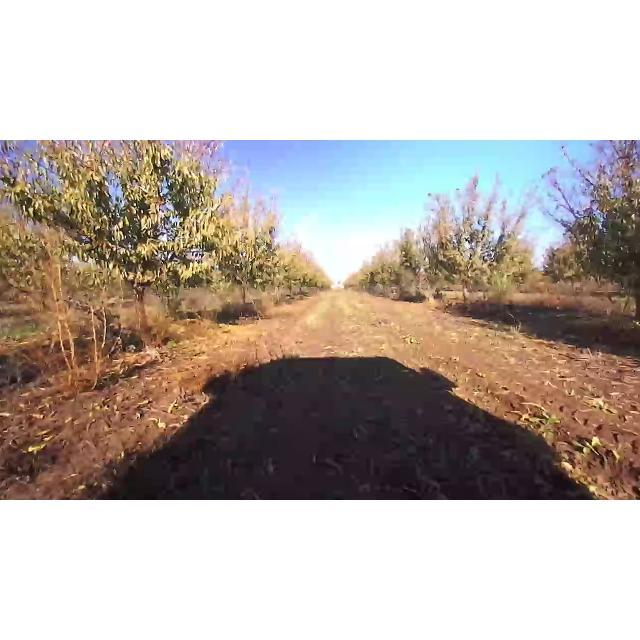direk: (2, 140, 266, 348), (400, 164, 540, 308), (528, 146, 640, 324), (198, 180, 292, 322)
